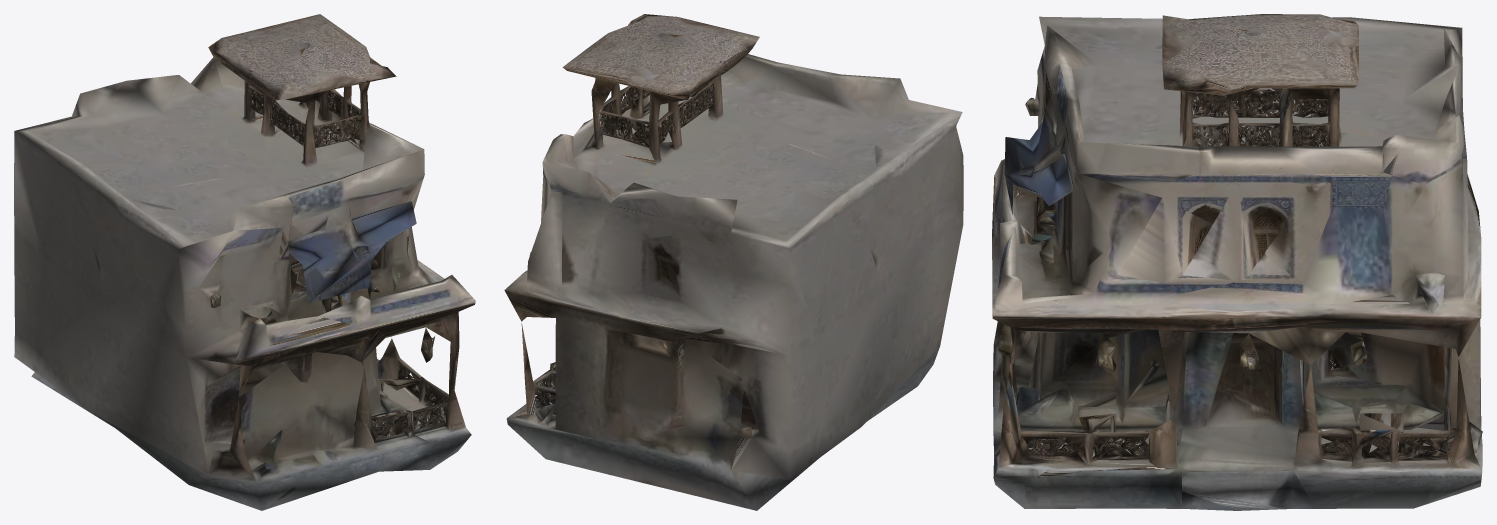
File: tavern_0.glb
The picture shows the model from 3 angles, left to right: view 1: azimuth 30°, elevation 25°; view 2: azimuth 150°, elevation 25°; view 3: azimuth 270°, elevation 25°; orthographic projection. The views are drawn at different scales.
Parts seen in each view (by area): view 1: tripo_node_02d9c7b2-d514-4958-b198-2c4b8aa8655b; view 2: tripo_node_02d9c7b2-d514-4958-b198-2c4b8aa8655b; view 3: tripo_node_02d9c7b2-d514-4958-b198-2c4b8aa8655b.
Boxes of the visible parts, x1,y1,x2,y2 form: tripo_node_02d9c7b2-d514-4958-b198-2c4b8aa8655b: (14, 14, 475, 510); tripo_node_02d9c7b2-d514-4958-b198-2c4b8aa8655b: (504, 14, 963, 510); tripo_node_02d9c7b2-d514-4958-b198-2c4b8aa8655b: (992, 14, 1482, 510).
Size of the model in its own units: 0.7762 by 0.9406 by 0.9496.
Materials: 1 (1 with a texture image).
